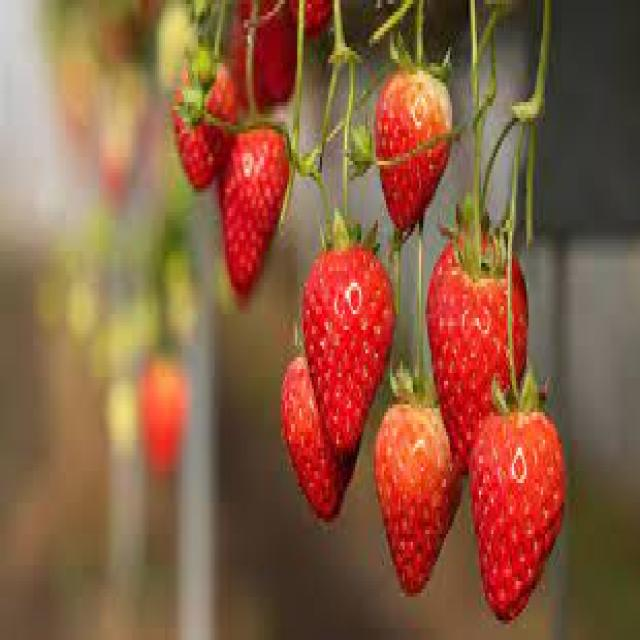strawberry: (426, 223, 528, 469), (298, 210, 393, 457), (468, 386, 566, 621), (374, 384, 463, 595), (373, 63, 454, 235), (220, 123, 289, 298)
